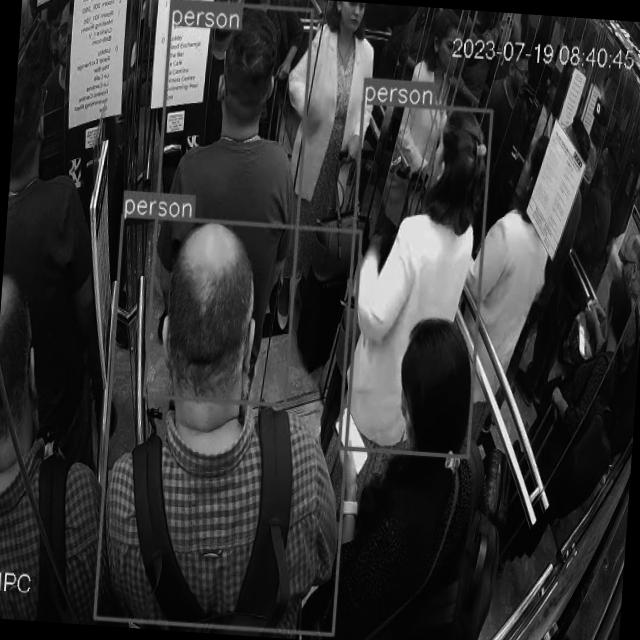person: (99, 222, 357, 640), (334, 324, 515, 640), (346, 104, 490, 501), (0, 59, 132, 467), (0, 270, 125, 625), (155, 0, 311, 247), (510, 264, 640, 558), (289, 0, 383, 343), (602, 231, 640, 462)
